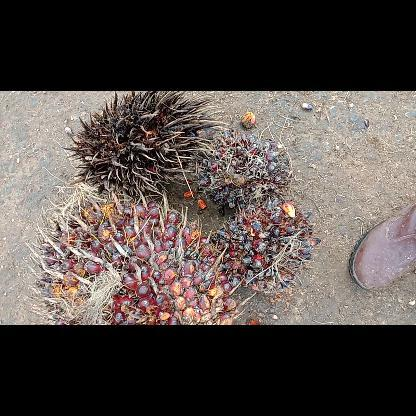Janjang kosong: (62, 92, 224, 202)
TBS abnormal: (210, 200, 322, 294), (189, 126, 295, 206)
TBS masak: (20, 182, 240, 324)
